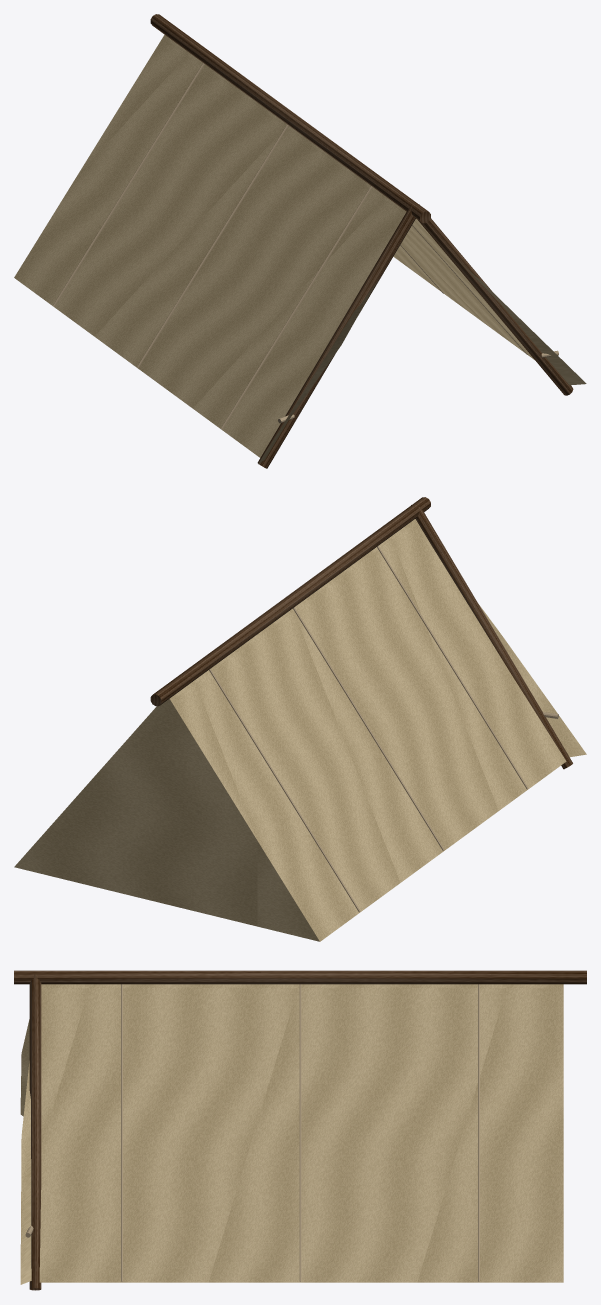
The model's file is camp_tent.glb.
3 renders of one model, top to bottom at view 1: azimuth 30°, elevation 25°; view 2: azimuth 150°, elevation 25°; view 3: azimuth 270°, elevation 25°, orthographic. The views are drawn at different scales.
Visible parts, largest first — view 1: Stitched canvas roof, Entrance frame, Flap tie; view 2: Stitched canvas roof, Entrance frame, Flap tie; view 3: Stitched canvas roof, Entrance frame, Flap tie.
Boxes of the visible parts, bbox=[...] form: Stitched canvas roof: bbox=[14, 34, 586, 463]; Entrance frame: bbox=[150, 14, 573, 468]; Flap tie: bbox=[53, 63, 558, 429]; Stitched canvas roof: bbox=[14, 519, 586, 941]; Entrance frame: bbox=[150, 497, 572, 769]; Flap tie: bbox=[209, 546, 558, 912]; Stitched canvas roof: bbox=[20, 984, 563, 1284]; Entrance frame: bbox=[14, 970, 586, 1290]; Flap tie: bbox=[25, 984, 479, 1281].
Size of the model in its own units: 4.3 by 2.84 by 6.1.
Materials: 3 (2 with a texture image).
